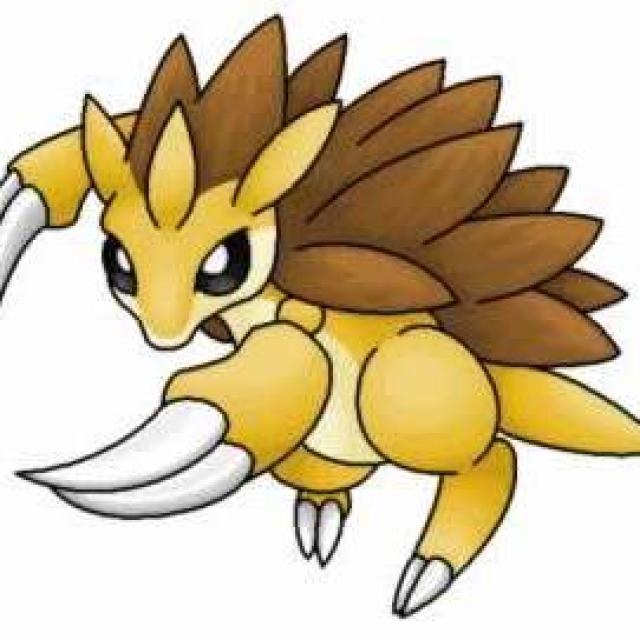Sandslash: (81, 27, 640, 517)
